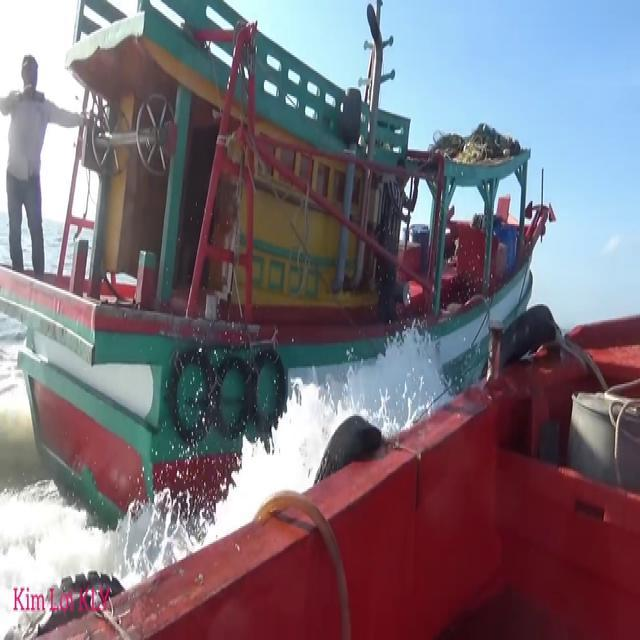Ship: (9, 8, 577, 526)
